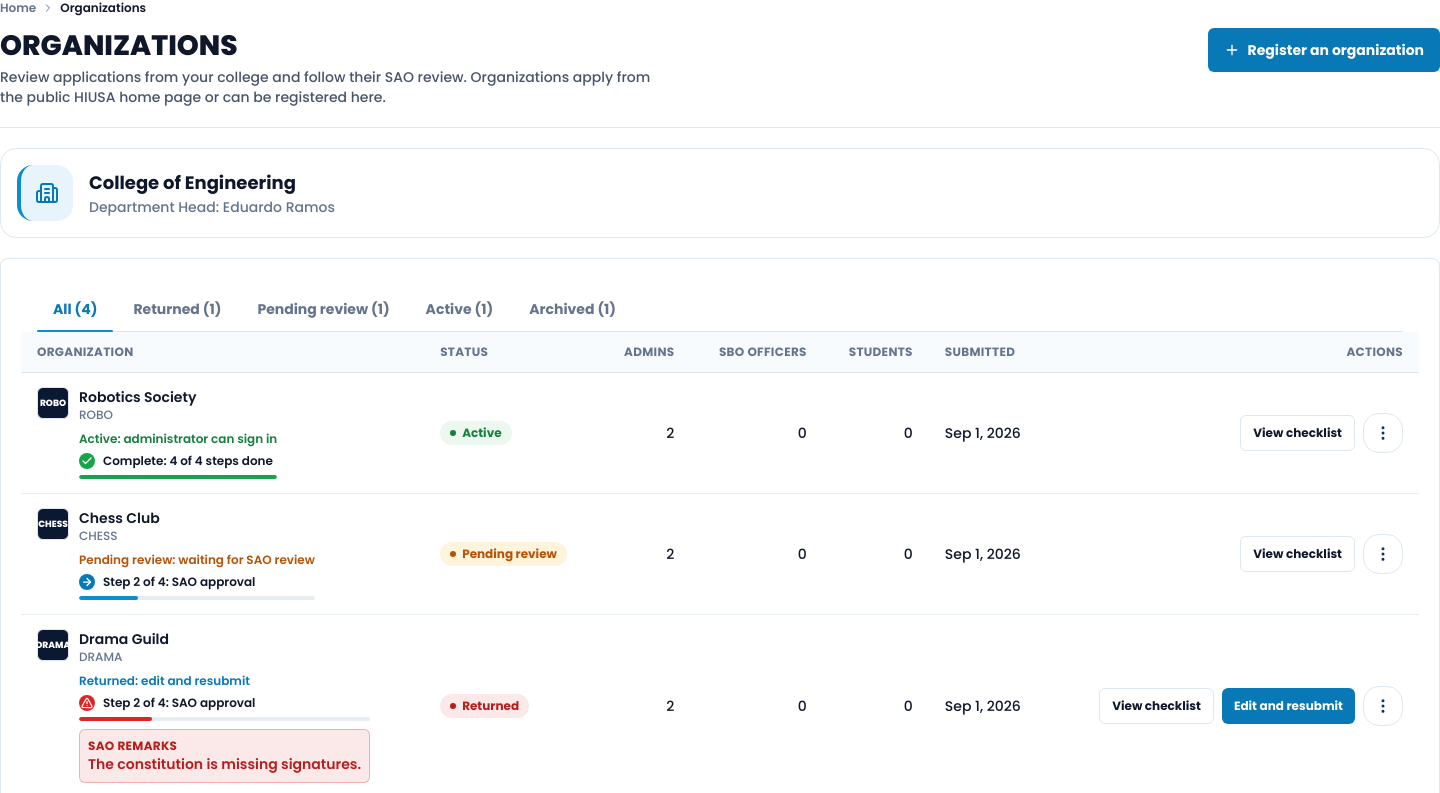
CollegeOrganizationsPage › says so when an organization has no Admin or SBO Officer yet
The image size is (1440, 793).
What coordinates should you click on to do the following:
click the button named "Actions for Chess Club"
I would click on:
 (1383, 554)
Its box is [1363,534,1403,574].
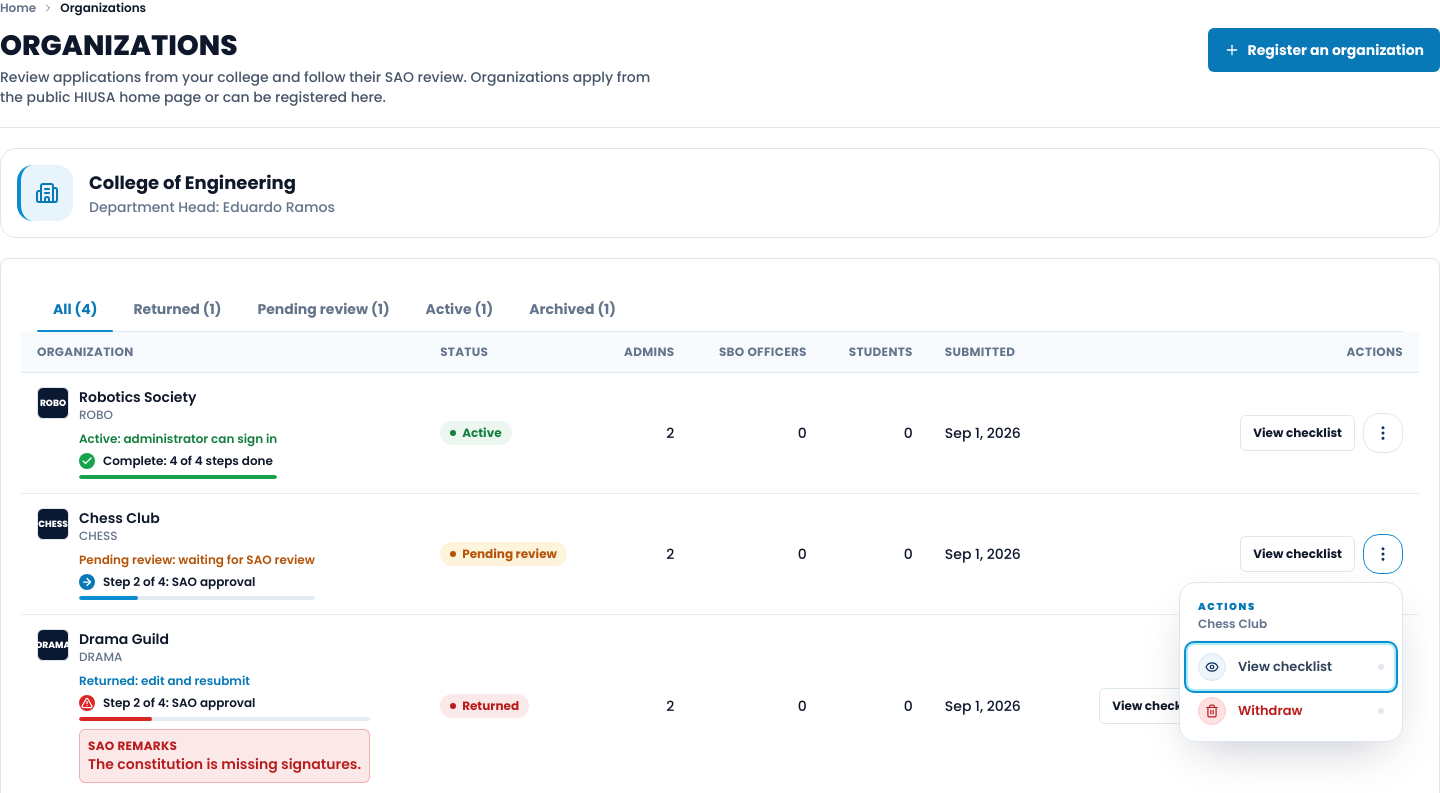
What coordinates should you click on to do the following:
click the menu item "View checklist"
I would click on:
 (1291, 667)
Its box is [1188,645,1394,689].
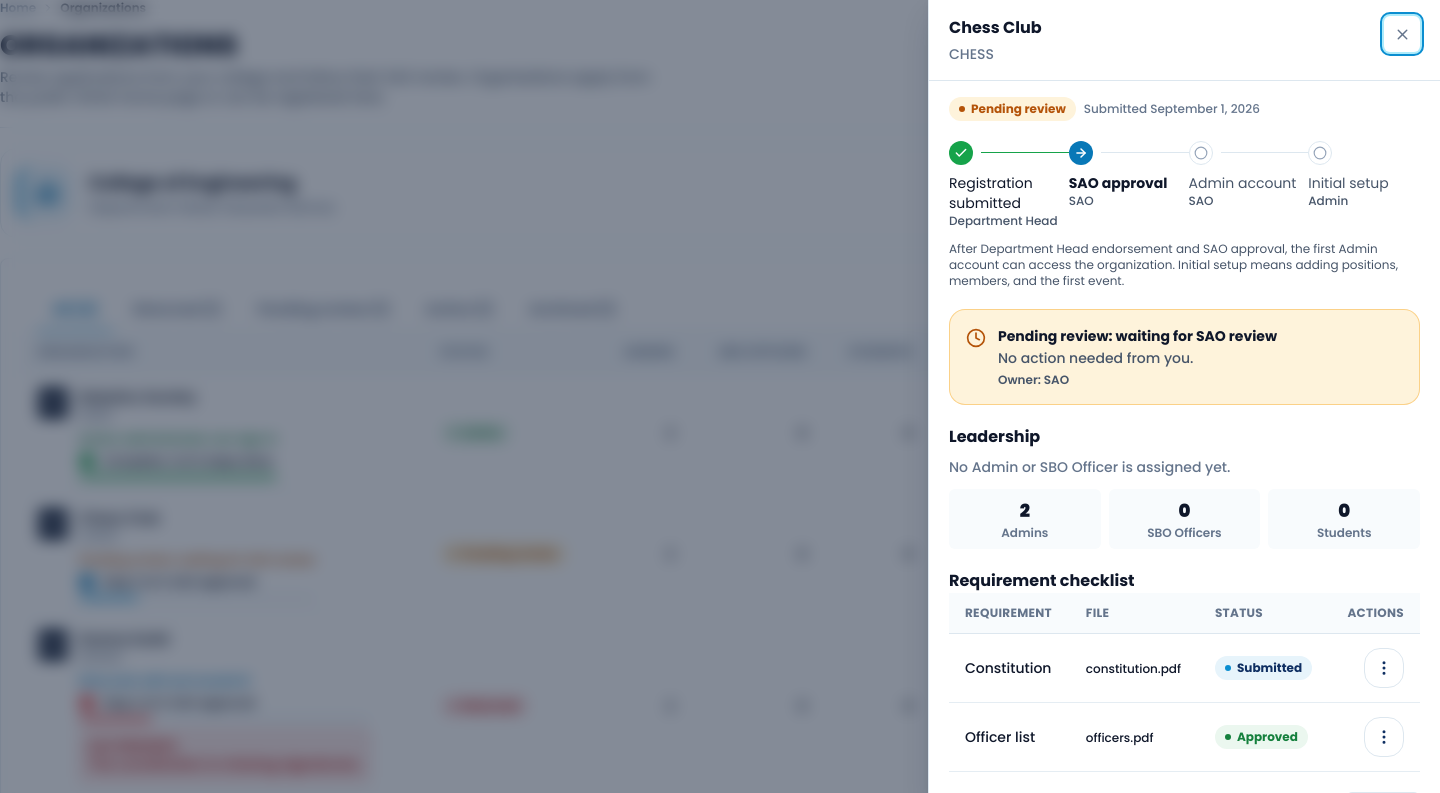
Expected: the text "No Admin or SBO Officer is assigned yet." is shown, [949,457,1230,477]
